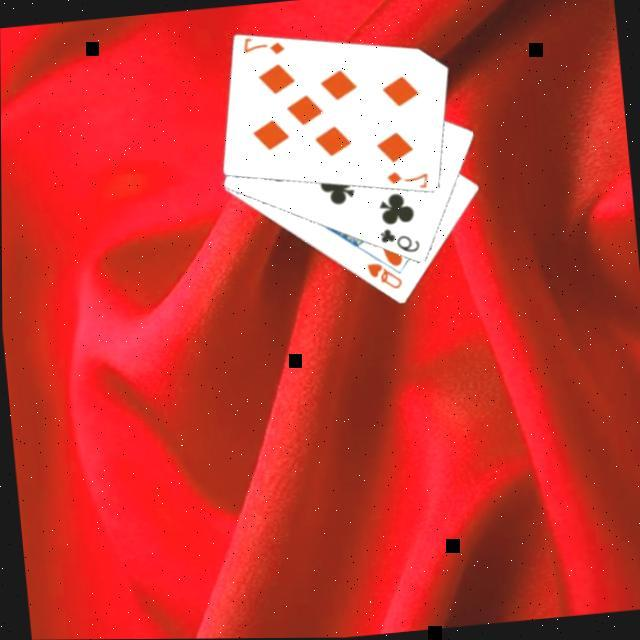6C: (374, 221, 422, 257)
7D: (380, 163, 430, 191), (238, 32, 287, 59)
QH: (361, 256, 404, 293)
